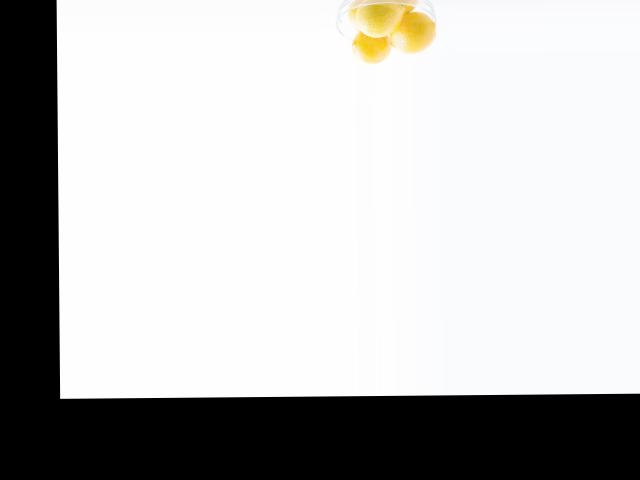lemon: (387, 17, 438, 54)
